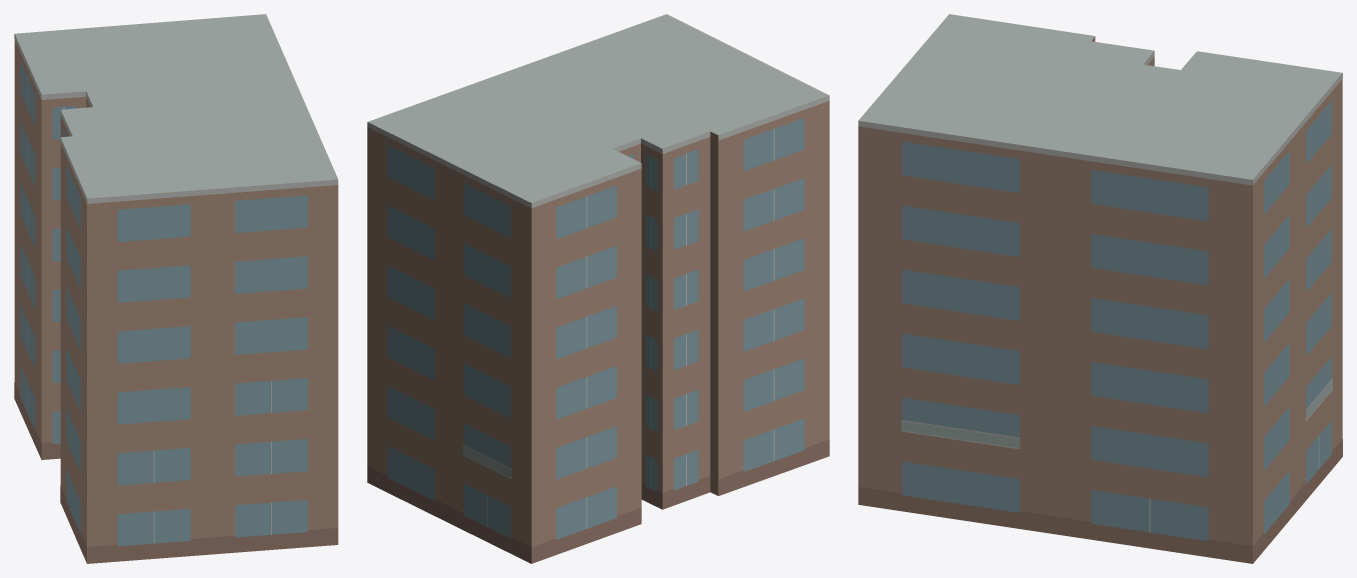
Rendered from survey-upis-32705380.glb.
3 views of the same model, side by side, from view 1: azimuth 30°, elevation 25°; view 2: azimuth 150°, elevation 25°; view 3: azimuth 270°, elevation 25° (orthographic). The views are drawn at different scales.
Parts seen in each view (by area): view 1: survey-upis-32705380.tmp; view 2: survey-upis-32705380.tmp; view 3: survey-upis-32705380.tmp.
Part boxes in pixels (x1,y1,x2,y2): survey-upis-32705380.tmp: (14, 14, 338, 563); survey-upis-32705380.tmp: (367, 14, 829, 563); survey-upis-32705380.tmp: (858, 14, 1342, 563).
Bounding box in the file's own units: 15.48 × 16.7 × 19.11.
